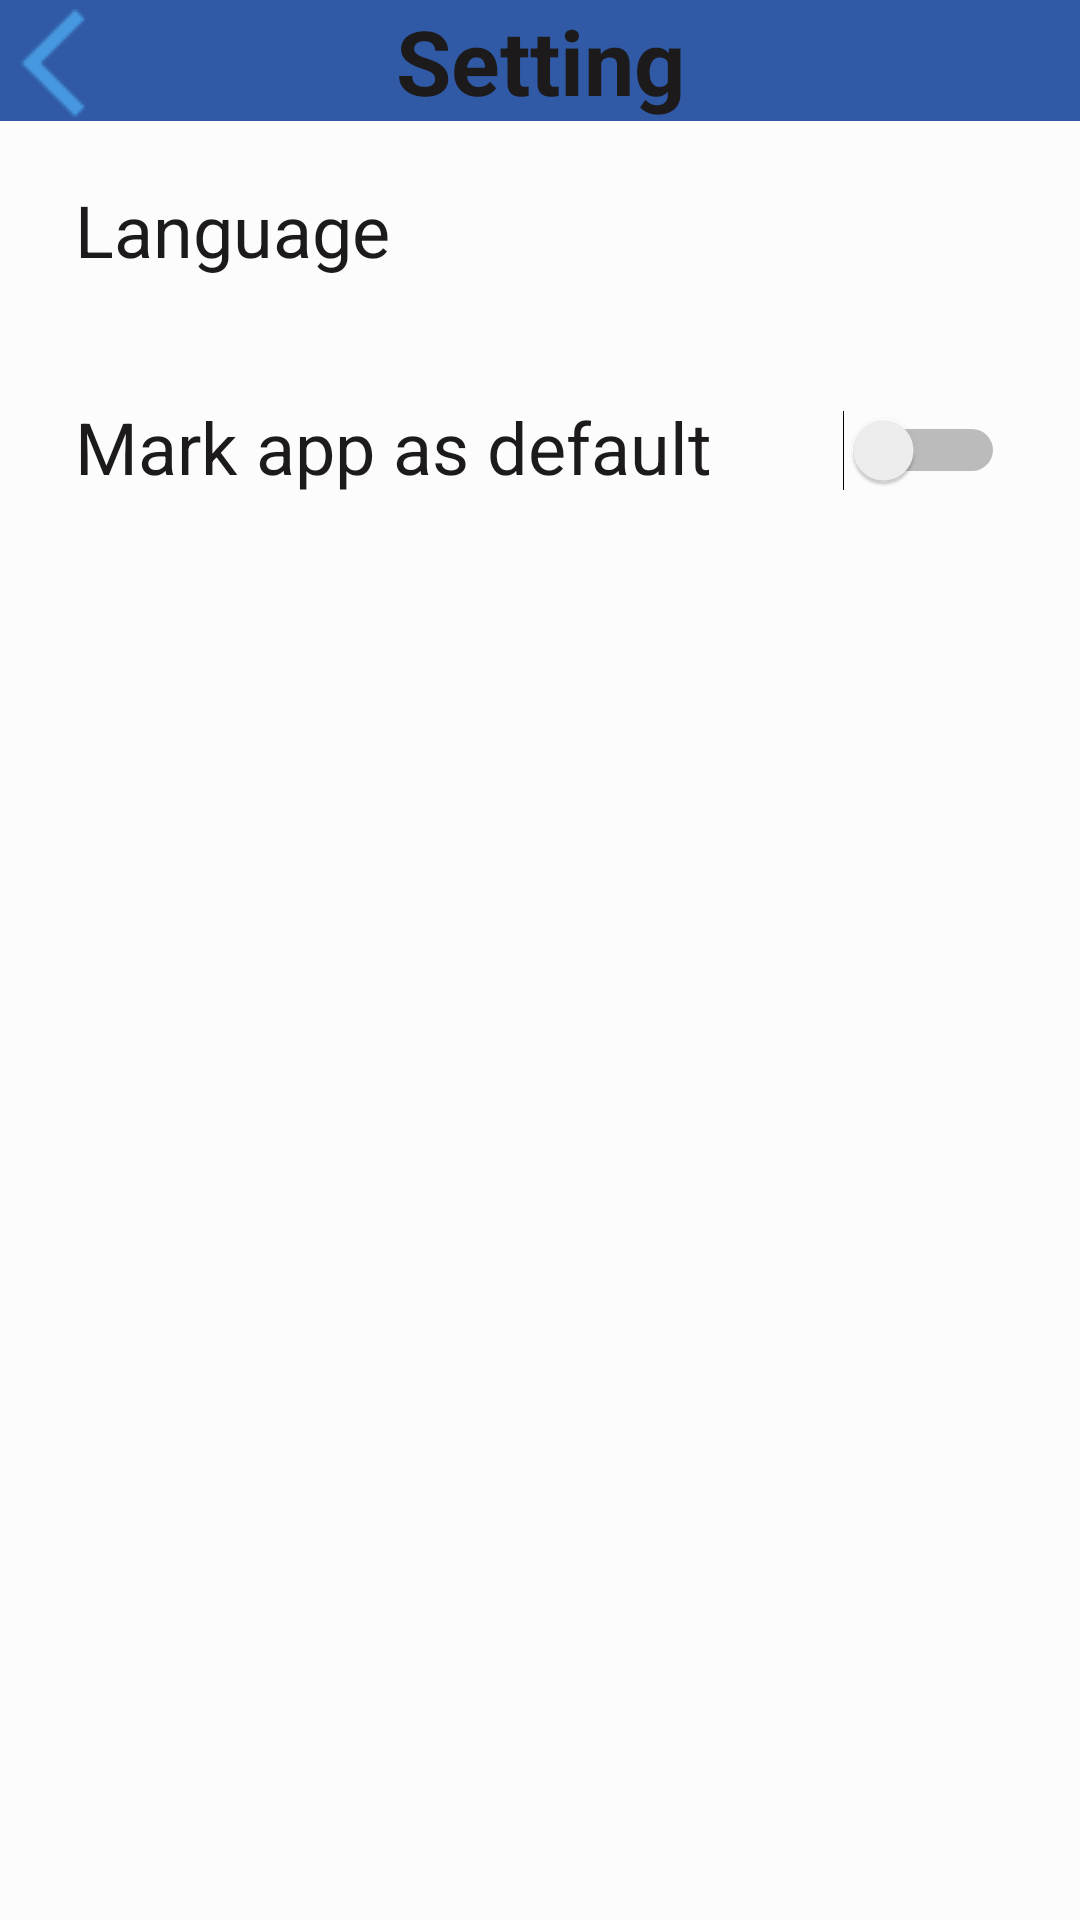

Where icons sit on this 1080x1920 app screen, as (x1, y1, x2, y2):
back: (23, 11, 84, 115)
